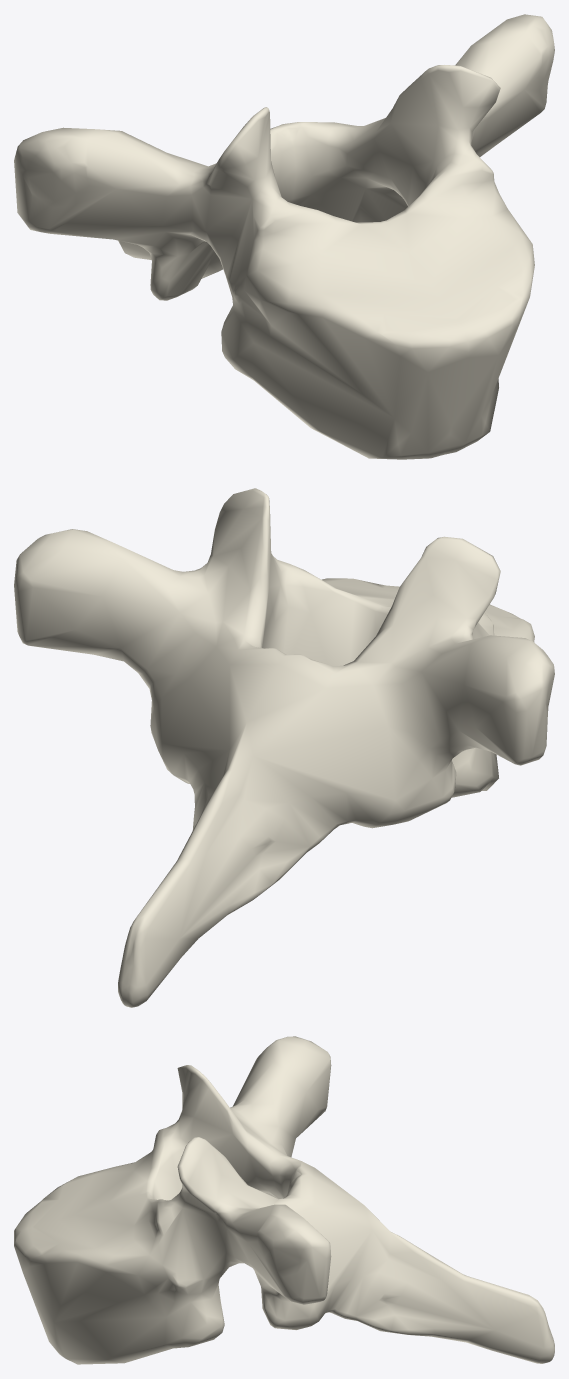
3 views of the same model, one above another, from view 1: azimuth 30°, elevation 25°; view 2: azimuth 150°, elevation 25°; view 3: azimuth 270°, elevation 25° (orthographic). The views are drawn at different scales.
Visible parts, largest first — view 1: ZA_20e95e2499fd1777; view 2: ZA_20e95e2499fd1777; view 3: ZA_20e95e2499fd1777.
Part boxes in pixels (<box>): ZA_20e95e2499fd1777: <box>14,14,554,459</box>; ZA_20e95e2499fd1777: <box>14,488,554,1007</box>; ZA_20e95e2499fd1777: <box>14,1036,554,1364</box>.
Bounding box in the file's own units: 0.0689 × 0.0413 × 0.0778.
